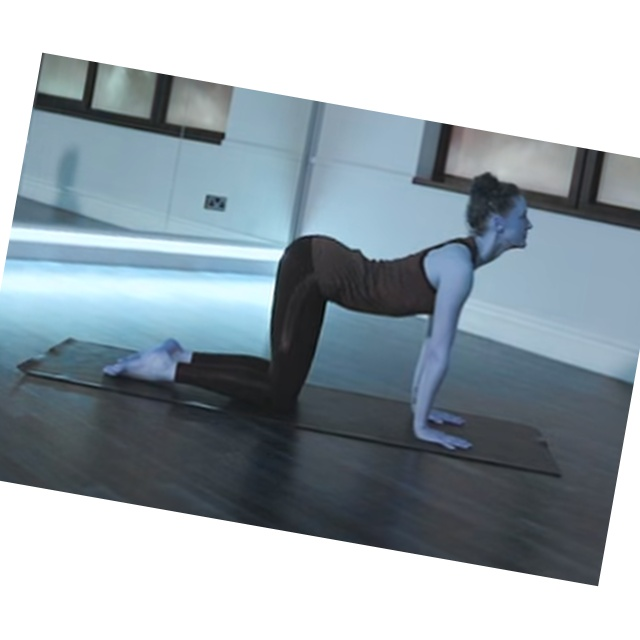Cow_Pose: (99, 168, 539, 457)
